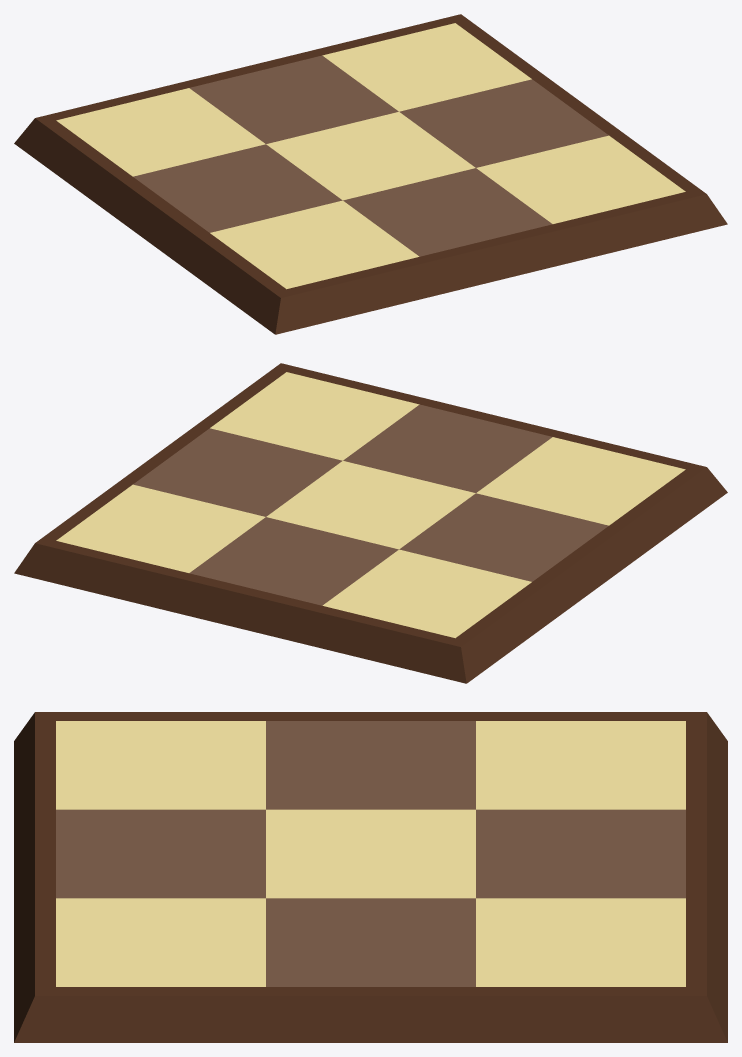
Rendered from board-1.glb.
3 views of the same model, one above another, from view 1: azimuth 30°, elevation 25°; view 2: azimuth 150°, elevation 25°; view 3: azimuth 270°, elevation 25° (orthographic). The views are drawn at different scales.
Visible parts, largest first — view 1: Plane; view 2: Plane; view 3: Plane.
Part boxes in pixels (<box>): Plane: <box>14,14,727,334</box>; Plane: <box>14,363,727,683</box>; Plane: <box>14,712,727,1042</box>.
Bounding box in the file's own units: 3.4 × 0.2 × 3.4.
1 material, 1 textured.
